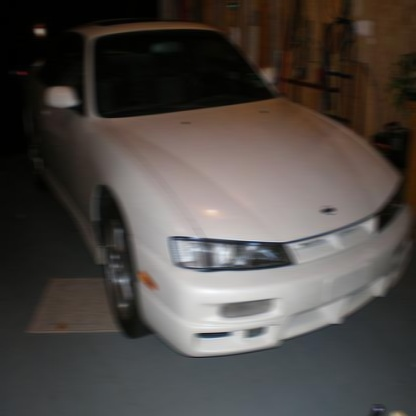Vehicle: (20, 13, 416, 363)
